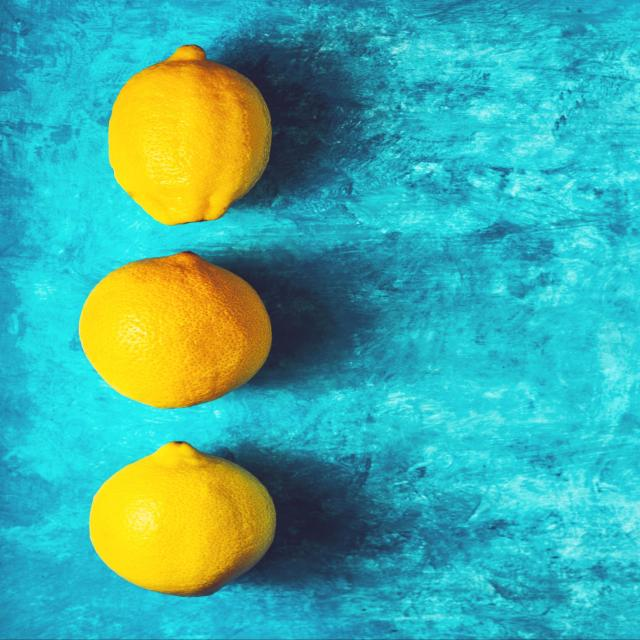lemon: (75, 247, 278, 412), (101, 41, 281, 227), (86, 435, 282, 600)
